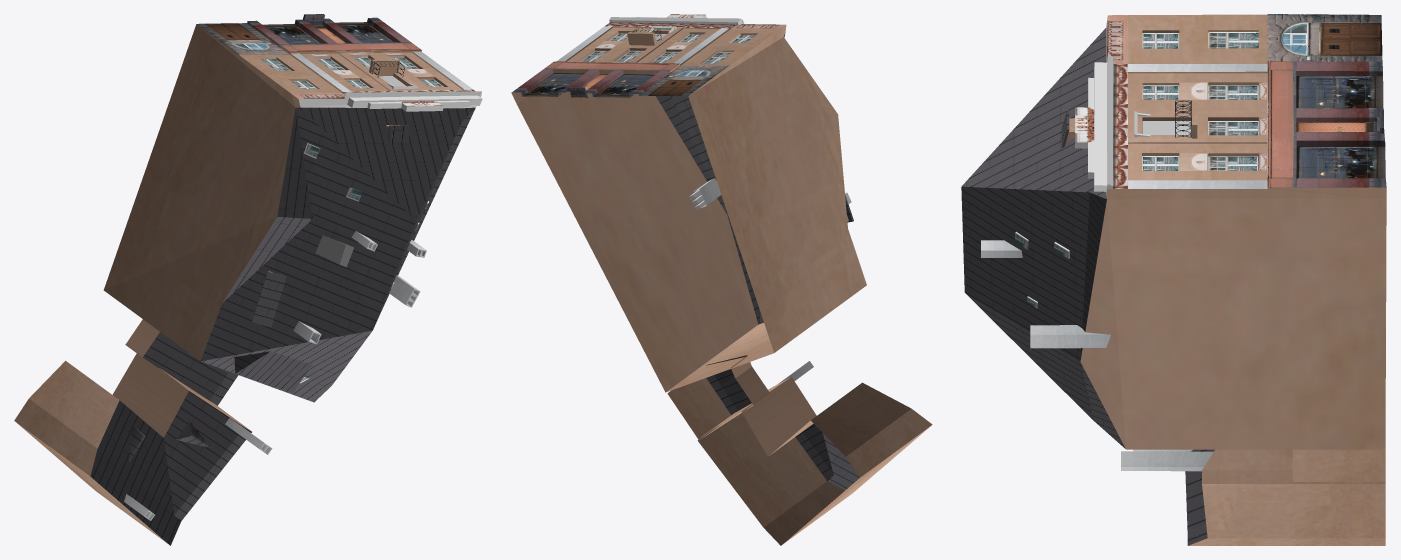
The model's file is Viru12.obj.
3 views of the same model, side by side, from view 1: azimuth 30°, elevation 25°; view 2: azimuth 150°, elevation 25°; view 3: azimuth 270°, elevation 25° (orthographic). The views are drawn at different scales.
Visible parts, largest first — view 1: Building; view 2: Building; view 3: Building.
Part boxes in pixels (x1=…): Building: x1=14, y1=14, x2=482, y2=545; Building: x1=511, y1=14, x2=932, y2=545; Building: x1=961, y1=14, x2=1386, y2=545.
Bounding box in the file's own units: 28.65 × 33.54 × 21.68.
